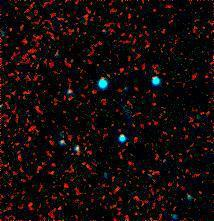star: (133, 31, 163, 61)
